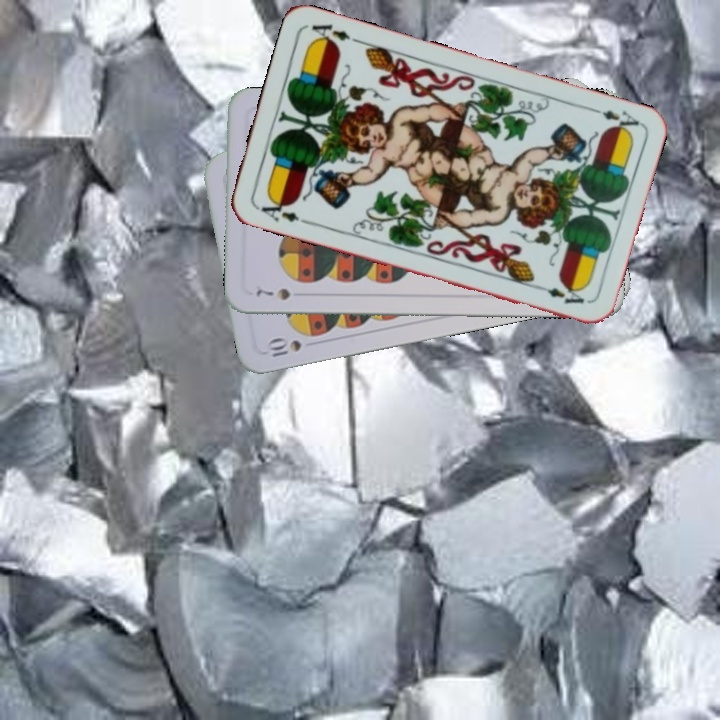EA: (585, 103, 642, 136), (253, 194, 302, 225)
S10: (262, 334, 304, 360)
S7: (252, 284, 293, 303)
